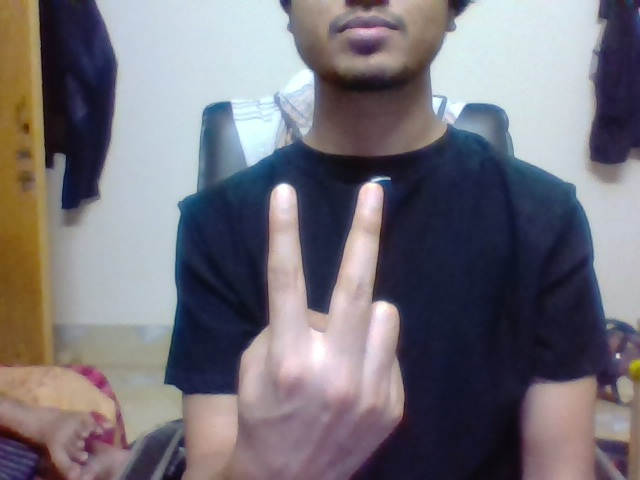V: (263, 175, 388, 322)
